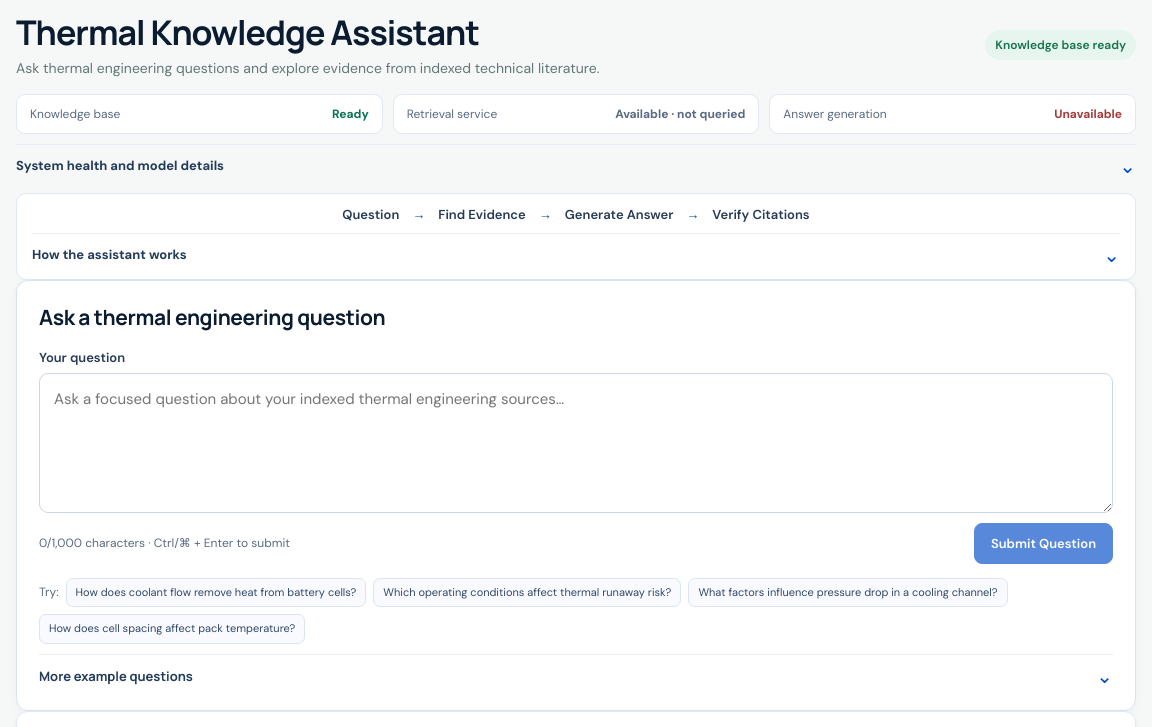
it: ThermalKnowledgeAssistant (mocked API unit tests) › shows an honest empty classifier configuration without a prediction
Click the button "System health and model details ⌄".
click(120, 166)  # box top-left (16, 145), bottom-right (1136, 178)
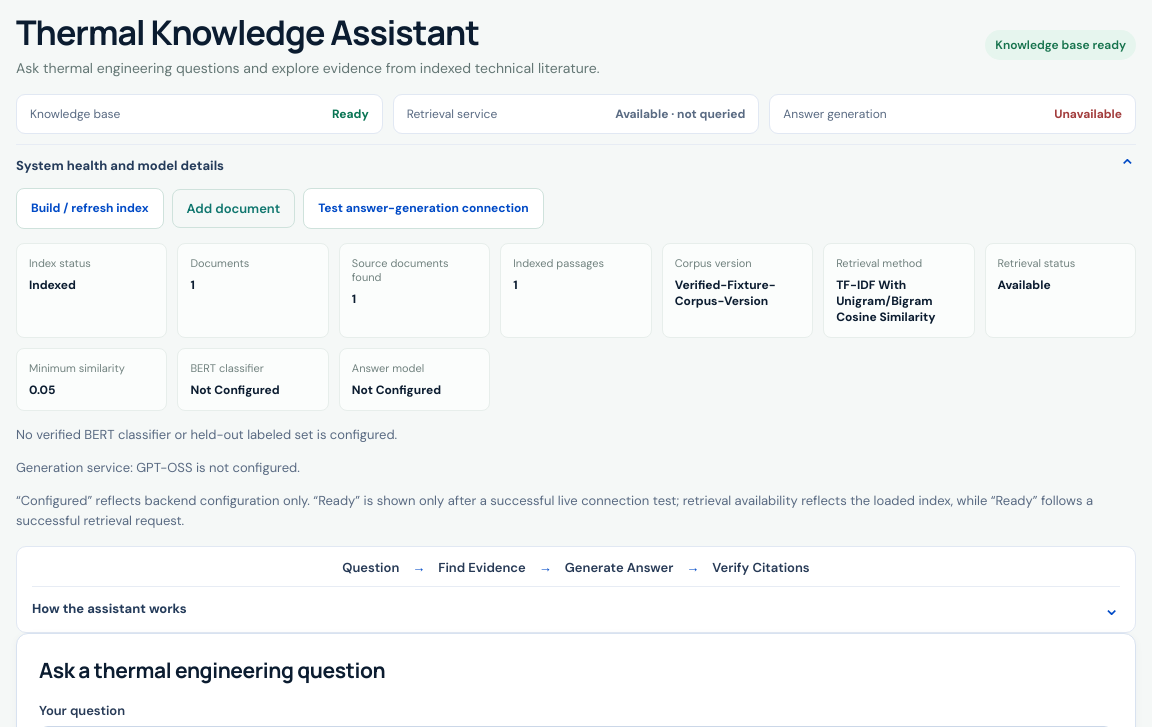
Expected: the 1st text "Not configured" is shown, top-left (190, 382), bottom-right (280, 398)
Expected: the text "No verified BERT classifier or held-out labeled set" is shown, top-left (16, 426), bottom-right (397, 443)
